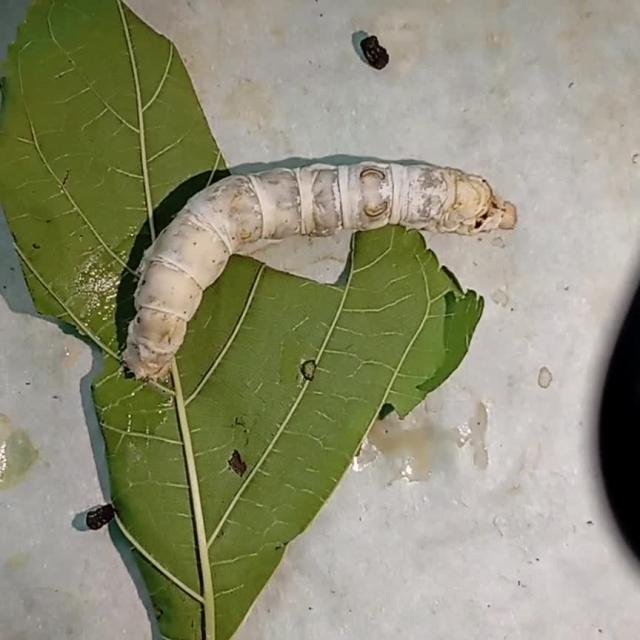Grasserie: (114, 141, 524, 390)
